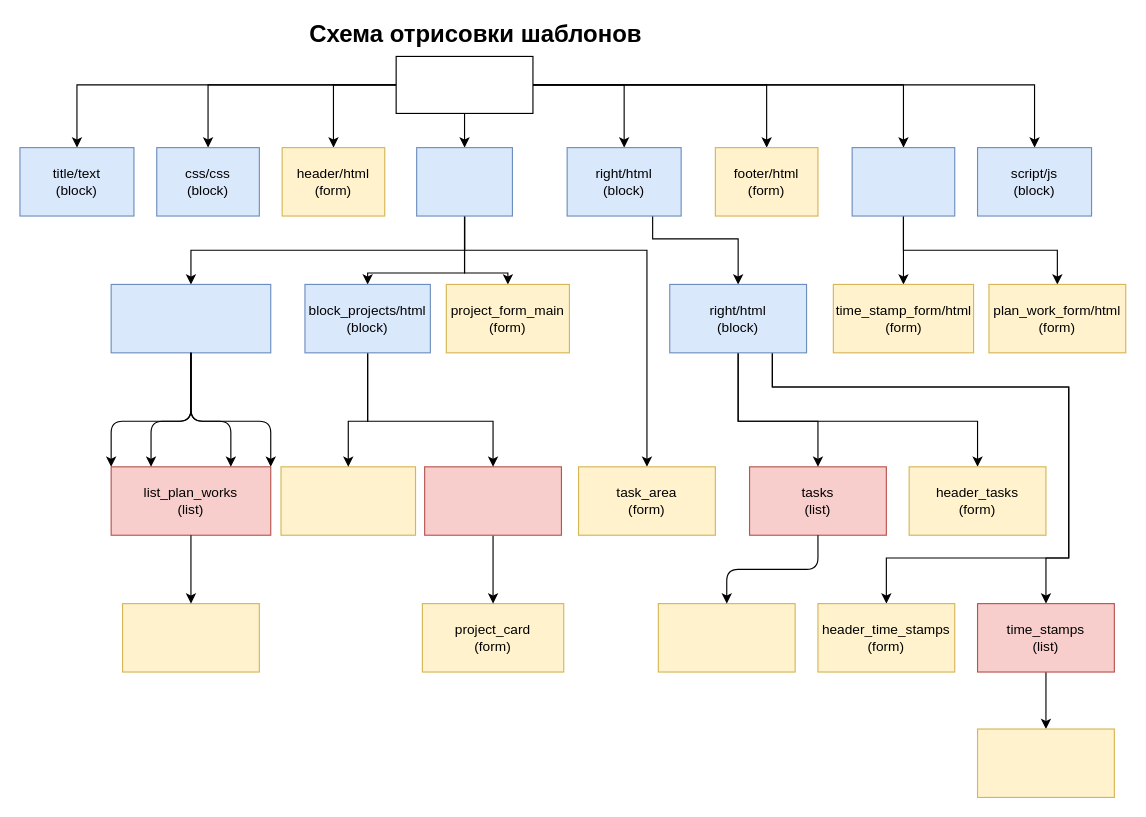
This 1146x817 diagram has some shape labels left out. The box of each missing label's shape, as (x1, y1, x2, y2) in pixels:
GeneralTemplate: (395, 55, 533, 113)
header_llist_projects (form): (280, 466, 416, 535)
list_projects (list): (424, 466, 561, 535)
main/html (block): (416, 146, 512, 216)
matrix_eisenhower (block): (110, 283, 271, 353)
mini_form/html (block): (851, 146, 955, 216)
plan_work_card (form): (121, 602, 259, 672)
task_card (form): (657, 602, 795, 672)
time_stamp_card (form): (976, 728, 1114, 797)
